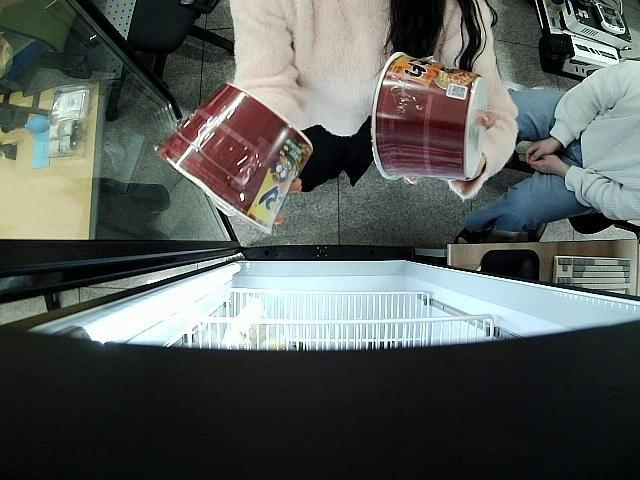05_nuguri_L: (148, 81, 314, 237), (369, 48, 487, 183)
